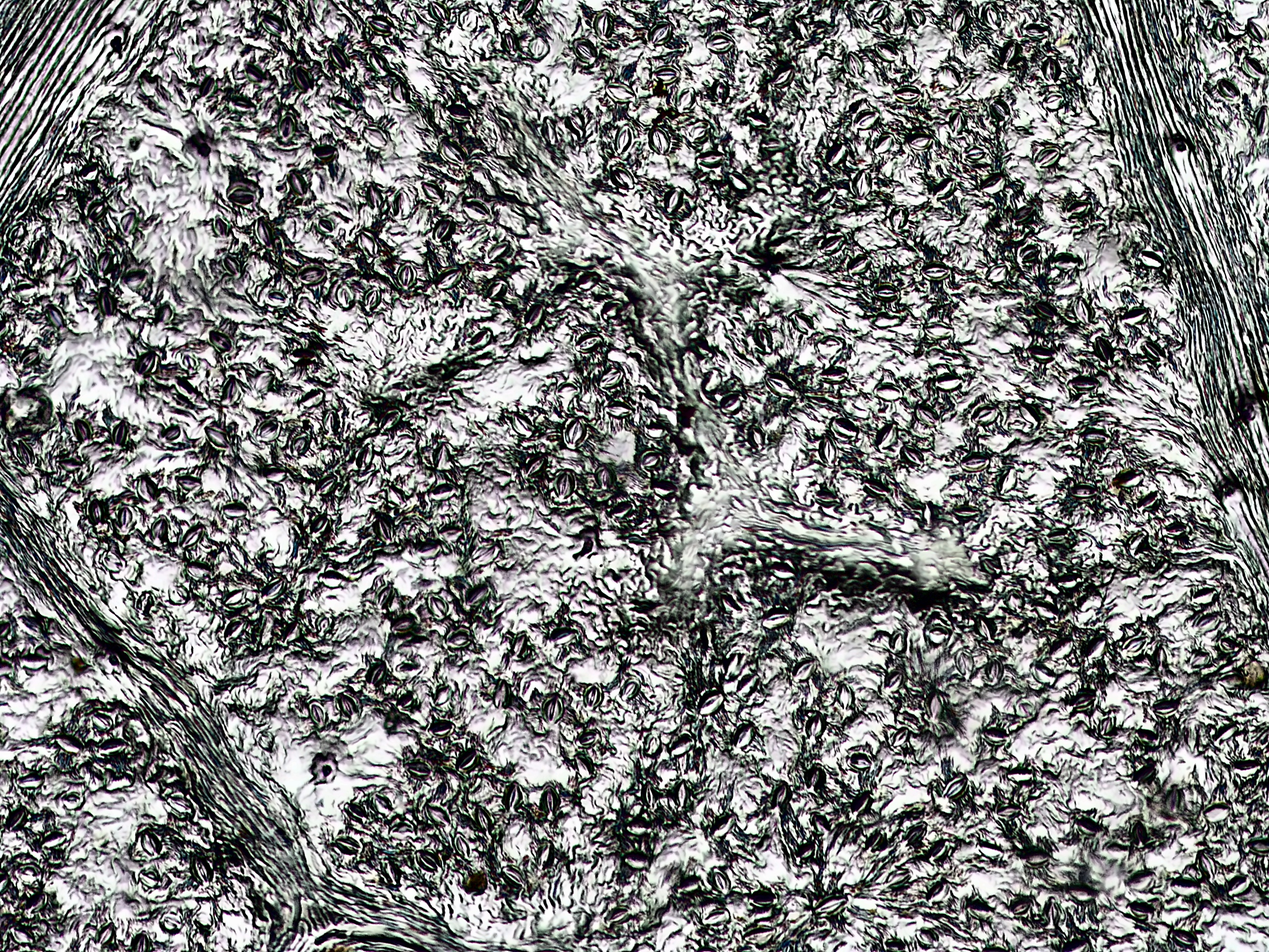stomata: (6, 439, 36, 472), (1194, 849, 1223, 882), (808, 894, 849, 916), (352, 230, 383, 259), (763, 371, 795, 399), (560, 417, 588, 449), (500, 779, 525, 814), (718, 649, 747, 679), (131, 352, 160, 382), (412, 847, 443, 875), (285, 169, 314, 198), (460, 196, 492, 222), (201, 423, 233, 449), (437, 141, 470, 166), (705, 814, 736, 840), (1072, 814, 1107, 837), (552, 469, 577, 501), (1017, 400, 1045, 428), (497, 865, 525, 893), (899, 442, 926, 471), (970, 402, 1000, 428), (376, 855, 402, 885), (164, 794, 196, 818), (467, 541, 499, 565), (973, 611, 997, 643), (742, 923, 775, 946), (422, 802, 452, 827), (814, 435, 838, 466), (767, 559, 798, 583), (747, 904, 784, 924), (52, 455, 87, 476), (41, 303, 67, 331), (417, 178, 447, 202), (474, 804, 495, 838), (994, 465, 1017, 496), (751, 321, 774, 352), (190, 854, 213, 885), (1126, 899, 1157, 922), (1066, 884, 1098, 906), (1031, 600, 1058, 626), (608, 164, 634, 191), (717, 590, 744, 616), (221, 617, 247, 644), (645, 21, 673, 46), (733, 670, 758, 698), (696, 689, 724, 714), (207, 330, 235, 355), (14, 650, 49, 670), (873, 281, 902, 305), (293, 263, 326, 284), (221, 374, 242, 407), (1166, 877, 1204, 895), (919, 260, 950, 282), (605, 82, 636, 104), (1125, 870, 1156, 892), (602, 400, 636, 420), (789, 310, 814, 337), (325, 44, 350, 71), (260, 13, 287, 38), (190, 74, 215, 101), (16, 613, 43, 638), (890, 85, 922, 106), (663, 185, 684, 217), (1045, 896, 1066, 928), (539, 785, 560, 817), (362, 181, 386, 209), (173, 376, 205, 397), (70, 415, 94, 443), (830, 415, 859, 438), (53, 731, 82, 754), (532, 841, 555, 870), (283, 212, 306, 241), (226, 182, 255, 205), (949, 5, 971, 35), (563, 109, 585, 139), (139, 828, 161, 858), (759, 608, 792, 628), (253, 216, 273, 249), (275, 115, 297, 145), (1136, 248, 1167, 269), (983, 656, 1004, 687), (964, 901, 995, 922), (362, 14, 393, 35), (769, 64, 794, 90), (989, 96, 1014, 122), (927, 839, 952, 865), (510, 411, 535, 437), (1028, 661, 1055, 685), (430, 216, 454, 243), (424, 720, 458, 739), (958, 453, 990, 473), (1068, 375, 1100, 395), (861, 478, 893, 498), (882, 868, 914, 888), (331, 835, 363, 855), (592, 12, 614, 41), (1128, 819, 1150, 848), (923, 881, 952, 903), (593, 462, 615, 491), (253, 419, 282, 441), (1181, 721, 1202, 751), (1126, 530, 1151, 555), (523, 454, 548, 479), (542, 697, 566, 723), (1085, 636, 1109, 662), (792, 657, 816, 683), (345, 799, 369, 825), (454, 748, 480, 772), (574, 328, 600, 352), (361, 126, 387, 150), (978, 555, 1005, 578), (1071, 296, 1094, 323), (803, 764, 826, 791), (708, 868, 731, 895), (1022, 20, 1053, 40), (999, 39, 1019, 70), (1202, 804, 1233, 824), (843, 751, 874, 771), (309, 143, 340, 163), (810, 486, 838, 508), (89, 707, 117, 729), (1171, 927, 1199, 949), (434, 268, 462, 290), (766, 482, 795, 503), (1151, 697, 1180, 718), (701, 904, 730, 925), (402, 757, 431, 778), (298, 389, 327, 410), (950, 503, 980, 523), (933, 371, 963, 391), (915, 403, 940, 427), (1103, 840, 1133, 860), (1067, 692, 1097, 712), (385, 820, 415, 840), (373, 518, 397, 543), (314, 212, 338, 237), (852, 107, 878, 130), (570, 41, 596, 64), (427, 593, 450, 619), (1252, 103, 1269, 138), (573, 753, 595, 780), (1191, 612, 1218, 634), (955, 648, 973, 681), (941, 776, 968, 798), (465, 329, 492, 351), (291, 65, 313, 92), (873, 383, 904, 402), (1120, 307, 1151, 326), (97, 736, 128, 755), (1055, 572, 1083, 593), (717, 392, 745, 413), (923, 320, 951, 341), (1033, 146, 1061, 167), (888, 204, 909, 232), (981, 2, 1002, 30), (1232, 756, 1260, 777), (1133, 726, 1162, 746), (171, 80, 191, 109), (816, 366, 848, 384), (699, 369, 723, 393), (688, 336, 712, 360), (791, 17, 815, 41), (865, 0, 889, 24), (1244, 18, 1268, 42), (808, 813, 832, 837), (226, 93, 258, 111), (875, 423, 898, 448), (905, 3, 928, 28), (1012, 699, 1037, 722), (883, 670, 906, 695), (902, 821, 927, 844), (378, 408, 401, 433), (4, 220, 27, 245), (1241, 55, 1267, 77), (1218, 76, 1240, 102), (914, 926, 940, 948), (136, 475, 158, 501), (1162, 784, 1181, 814), (834, 681, 853, 711), (335, 280, 354, 310), (72, 273, 91, 303), (308, 702, 329, 729), (1026, 345, 1054, 365), (851, 170, 871, 198), (705, 32, 733, 52), (872, 41, 900, 61), (1052, 252, 1083, 270), (640, 780, 658, 811), (845, 252, 869, 275), (824, 142, 848, 165), (3, 808, 27, 831), (850, 792, 873, 816), (312, 613, 336, 636), (133, 591, 156, 615), (426, 0, 450, 23), (1021, 847, 1050, 866), (783, 816, 802, 845), (667, 734, 692, 756), (260, 576, 285, 598), (367, 50, 389, 75), (337, 692, 358, 718), (95, 289, 116, 315), (843, 51, 863, 78), (1041, 57, 1061, 84), (648, 127, 668, 154), (980, 727, 1010, 745), (925, 691, 943, 721), (329, 93, 356, 113), (637, 450, 665, 469), (642, 422, 670, 441), (465, 585, 489, 607), (925, 623, 949, 645), (363, 662, 385, 686), (220, 253, 242, 277), (57, 258, 79, 282), (9, 924, 34, 945), (394, 691, 419, 712), (17, 349, 46, 367), (980, 174, 1006, 194), (322, 409, 342, 435), (1015, 245, 1042, 264), (1191, 585, 1218, 604), (977, 842, 1004, 861), (453, 833, 472, 860), (651, 479, 678, 498), (362, 286, 381, 313), (444, 102, 471, 121), (1116, 469, 1146, 486), (1136, 492, 1159, 514), (887, 631, 909, 654), (167, 583, 190, 605), (84, 201, 107, 223), (1042, 90, 1066, 111), (581, 684, 602, 708), (1007, 896, 1031, 917), (733, 725, 754, 749), (609, 501, 633, 522), (212, 544, 230, 572), (318, 570, 346, 588), (355, 443, 373, 471), (486, 241, 510, 262), (290, 34, 308, 62), (175, 474, 203, 492), (624, 851, 649, 871), (313, 475, 338, 495), (157, 425, 188, 441), (1094, 336, 1113, 362), (1065, 199, 1091, 218), (500, 29, 519, 55), (86, 497, 105, 523), (1080, 428, 1109, 445), (696, 150, 725, 167), (743, 112, 770, 130), (613, 126, 631, 153), (192, 910, 219, 928), (494, 679, 512, 706), (123, 269, 150, 287), (1002, 590, 1024, 612), (1136, 763, 1158, 785), (1214, 722, 1237, 743), (809, 185, 833, 205), (726, 171, 750, 191), (160, 913, 184, 933), (1051, 638, 1075, 658), (387, 483, 407, 507), (575, 272, 599, 292), (389, 188, 405, 218), (1162, 522, 1190, 539), (16, 862, 41, 881), (447, 629, 472, 648), (674, 878, 699, 897), (641, 731, 660, 756), (710, 78, 728, 104), (510, 633, 528, 659), (597, 369, 623, 387), (101, 552, 127, 570), (109, 419, 127, 445), (11, 281, 37, 299), (986, 262, 1007, 284), (619, 679, 640, 701), (864, 831, 886, 852), (243, 60, 264, 82), (932, 178, 955, 198), (1072, 483, 1099, 500), (747, 423, 764, 450), (961, 145, 988, 162), (906, 133, 933, 150), (806, 711, 823, 738), (624, 819, 651, 836), (402, 537, 419, 564), (1225, 876, 1249, 895), (223, 588, 247, 607), (522, 302, 541, 326), (120, 211, 139, 235), (30, 238, 49, 262), (819, 235, 844, 253), (948, 111, 966, 136), (551, 628, 576, 646), (391, 78, 409, 103), (1153, 645, 1169, 673), (749, 892, 777, 908), (393, 658, 419, 675), (1185, 651, 1211, 668), (1123, 634, 1144, 655), (288, 434, 309, 455), (941, 64, 961, 86), (180, 527, 202, 547), (1033, 299, 1056, 318), (1097, 714, 1116, 737), (149, 517, 168, 540), (458, 8, 477, 31), (12, 773, 41, 788), (675, 779, 690, 808), (186, 562, 210, 580), (485, 281, 509, 299), (397, 264, 415, 288), (529, 35, 547, 59), (675, 87, 692, 112), (995, 802, 1020, 819), (883, 934, 908, 951), (116, 506, 133, 531), (890, 727, 910, 748), (372, 793, 392, 814), (254, 370, 274, 391), (262, 290, 290, 305), (27, 894, 49, 913), (433, 779, 449, 805), (213, 213, 229, 239), (356, 205, 374, 228), (40, 831, 64, 848), (816, 335, 841, 351), (58, 791, 83, 807), (415, 540, 440, 556), (602, 300, 622, 320), (1012, 205, 1033, 224), (178, 353, 199, 372), (78, 164, 100, 182), (1044, 528, 1072, 542), (1006, 768, 1034, 782), (518, 677, 535, 700), (772, 783, 789, 806), (97, 251, 114, 274), (758, 138, 784, 153), (872, 135, 893, 153), (652, 67, 679, 81), (37, 809, 55, 830), (221, 504, 248, 518), (552, 382, 579, 396), (430, 483, 455, 498), (262, 467, 287, 482), (391, 617, 414, 633), (798, 842, 814, 865), (606, 907, 629, 923), (439, 524, 462, 540), (688, 121, 707, 140), (94, 924, 113, 943), (399, 7, 418, 26), (432, 443, 447, 467), (376, 586, 392, 608), (137, 869, 160, 884), (309, 515, 328, 533), (434, 685, 450, 706), (1217, 638, 1238, 654), (516, 0, 537, 16), (1211, 19, 1226, 41), (687, 910, 704, 929), (748, 12, 769, 26), (578, 731, 597, 746), (606, 792, 620, 812), (500, 653, 513, 674), (371, 574, 385, 593), (932, 777, 943, 796)
